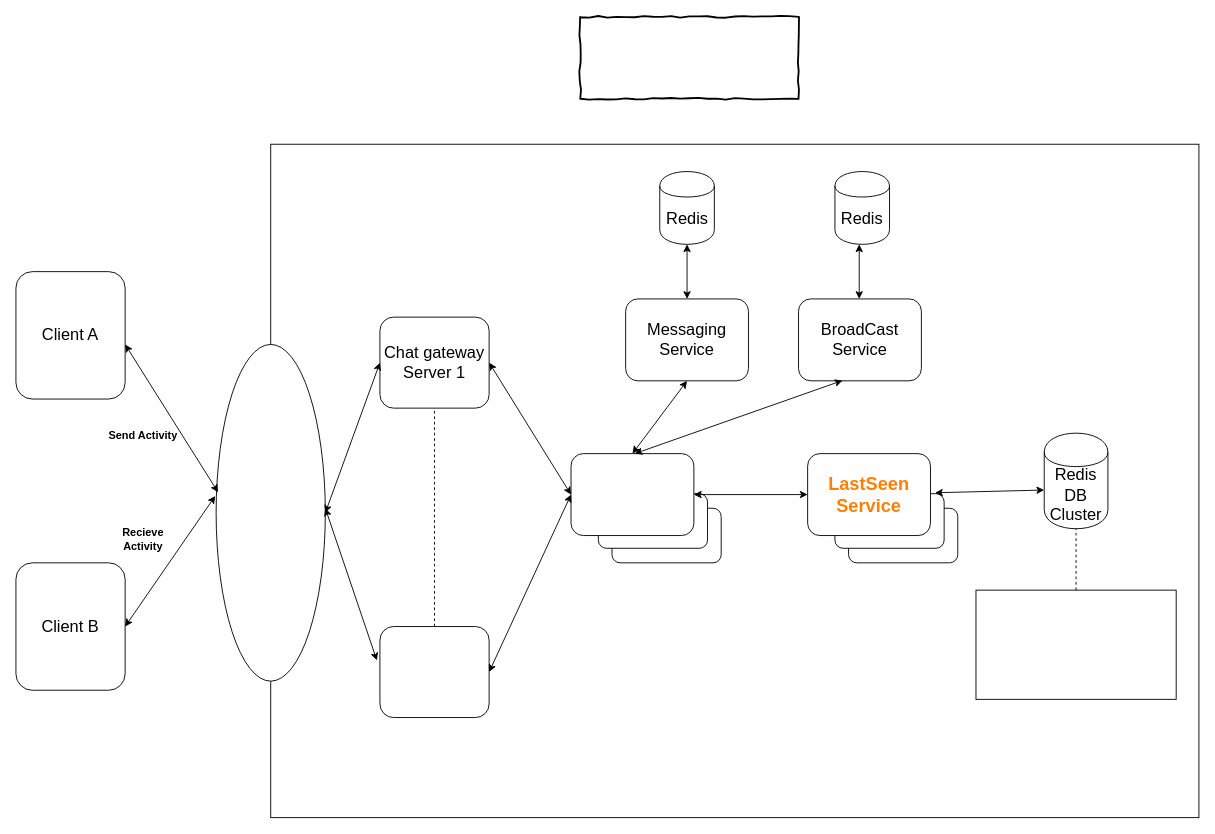
This 1215x834 diagram has some shape labels left out. The centre of each missing label's shape, as x and y in pixels:
Chat gateway Server N: point (434, 672)
Chat Server: point (689, 57)
Communicator Service: point (632, 494)
Load Balancer: point (270, 512)
username epoch client_a123 1586805746 client_b123 1586808967: point (1075, 644)
